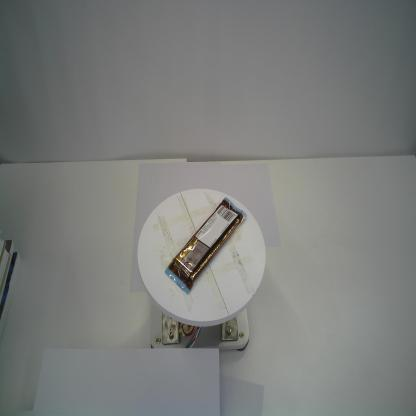Chocolate: (163, 195, 248, 296)
